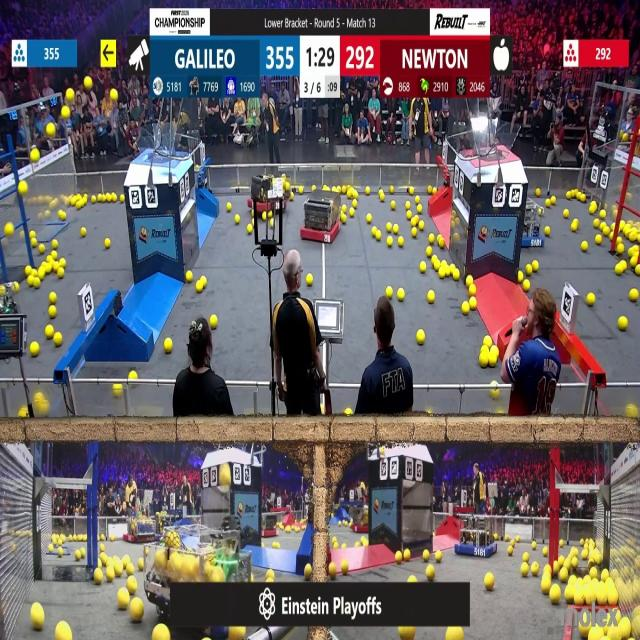ball_airborne: (219, 464, 230, 484), (233, 627, 246, 639), (46, 125, 54, 138), (31, 148, 39, 161), (4, 223, 12, 236), (62, 106, 70, 118), (18, 182, 26, 194), (67, 90, 74, 102), (110, 90, 117, 102), (86, 77, 93, 88), (623, 134, 629, 143), (380, 448, 386, 456)
ball_ground: (32, 604, 45, 631), (132, 600, 144, 622), (117, 591, 129, 610), (57, 624, 71, 640), (152, 626, 168, 640), (444, 627, 461, 640), (550, 586, 562, 604), (401, 627, 416, 640), (485, 572, 494, 590), (489, 348, 498, 365), (129, 579, 138, 595), (564, 588, 573, 604), (628, 406, 638, 419), (417, 331, 425, 346), (31, 342, 39, 357), (305, 564, 313, 579), (165, 339, 173, 354), (95, 569, 103, 584), (540, 581, 549, 594), (210, 315, 218, 329), (55, 334, 63, 348), (328, 562, 336, 576), (107, 567, 115, 581), (560, 568, 568, 582), (117, 565, 126, 577), (426, 566, 434, 579), (620, 317, 628, 330), (396, 288, 404, 301), (522, 563, 530, 576), (268, 568, 275, 582), (588, 293, 596, 305), (630, 289, 638, 301), (617, 264, 625, 276), (481, 354, 489, 366), (48, 306, 55, 319), (342, 560, 349, 573), (386, 286, 394, 297), (468, 297, 476, 308), (128, 564, 136, 575), (49, 292, 56, 304), (307, 274, 314, 286), (45, 325, 52, 337), (402, 550, 409, 562), (531, 562, 538, 574), (462, 304, 469, 316), (484, 338, 492, 348), (630, 256, 638, 266), (491, 389, 499, 399), (18, 410, 26, 420), (542, 564, 550, 574), (185, 272, 192, 283), (37, 269, 44, 280), (396, 552, 402, 564), (524, 280, 530, 292), (423, 551, 429, 563), (428, 290, 434, 302), (130, 369, 138, 378), (571, 220, 578, 230), (466, 276, 473, 286), (26, 267, 33, 277), (468, 286, 475, 296), (618, 244, 625, 254), (453, 271, 460, 281), (589, 205, 596, 215), (76, 550, 82, 561), (34, 277, 40, 288), (139, 559, 145, 570), (596, 235, 602, 246), (370, 226, 376, 237), (526, 265, 532, 276), (13, 282, 19, 293), (523, 553, 530, 562), (412, 229, 419, 238), (432, 262, 439, 271), (361, 537, 368, 546), (349, 208, 356, 217), (577, 192, 584, 201), (44, 265, 51, 274), (121, 556, 128, 565), (59, 269, 65, 279), (435, 552, 441, 562), (29, 277, 35, 287), (583, 242, 589, 252), (51, 240, 57, 250), (419, 220, 425, 230), (397, 238, 403, 248), (440, 270, 446, 280), (572, 558, 578, 568), (376, 231, 382, 241), (535, 264, 541, 274), (195, 282, 201, 292), (428, 235, 434, 245), (516, 273, 522, 283), (60, 210, 66, 220), (201, 278, 207, 288), (602, 225, 608, 235), (342, 216, 348, 226), (51, 250, 57, 260), (554, 561, 560, 571), (409, 575, 417, 582), (113, 384, 121, 391), (421, 263, 426, 274), (387, 238, 393, 247), (426, 247, 432, 256), (412, 217, 418, 226), (390, 202, 396, 211), (31, 239, 37, 248), (440, 239, 446, 248), (365, 186, 371, 195), (105, 239, 110, 249), (387, 222, 392, 232), (635, 267, 640, 277), (39, 244, 44, 254), (542, 548, 547, 558), (403, 203, 410, 210), (482, 346, 489, 353), (564, 210, 570, 218), (247, 224, 253, 232), (365, 214, 371, 222), (380, 192, 386, 200), (346, 410, 352, 418), (100, 542, 106, 550), (594, 220, 600, 228), (268, 212, 274, 220), (347, 190, 353, 198), (454, 234, 460, 242), (390, 185, 396, 193), (226, 203, 231, 212), (507, 545, 512, 554), (80, 229, 85, 238), (59, 549, 64, 558), (600, 210, 605, 219), (33, 269, 38, 278), (352, 201, 358, 208), (273, 541, 279, 548), (100, 553, 106, 560), (98, 193, 104, 200), (236, 215, 241, 223), (61, 258, 66, 266), (393, 224, 398, 232), (119, 194, 124, 202), (552, 198, 557, 206), (98, 560, 103, 568), (298, 186, 303, 194), (76, 202, 81, 210), (609, 232, 614, 240), (410, 187, 415, 195), (451, 264, 456, 272), (353, 190, 358, 198), (106, 192, 111, 200), (503, 534, 508, 542), (418, 205, 422, 214), (544, 226, 548, 235), (497, 412, 503, 418), (342, 542, 348, 548), (112, 192, 116, 201), (535, 188, 540, 195), (408, 211, 413, 218), (93, 195, 98, 202), (428, 186, 433, 193), (617, 237, 622, 244), (532, 541, 536, 549), (264, 214, 268, 222), (545, 200, 549, 208), (416, 195, 420, 203), (566, 194, 570, 202), (250, 574, 254, 582), (355, 541, 360, 547), (339, 521, 344, 527), (290, 192, 294, 199), (517, 536, 521, 543), (344, 521, 348, 528), (49, 544, 53, 551), (312, 184, 316, 190), (538, 210, 542, 216)
goal: (465, 120, 520, 160), (129, 130, 189, 160)
robot_blue: (456, 514, 496, 556), (0, 282, 24, 352), (518, 204, 544, 247)
robot_red: (300, 188, 342, 244), (250, 169, 294, 213), (125, 513, 161, 543), (352, 507, 369, 533), (262, 514, 280, 537)
